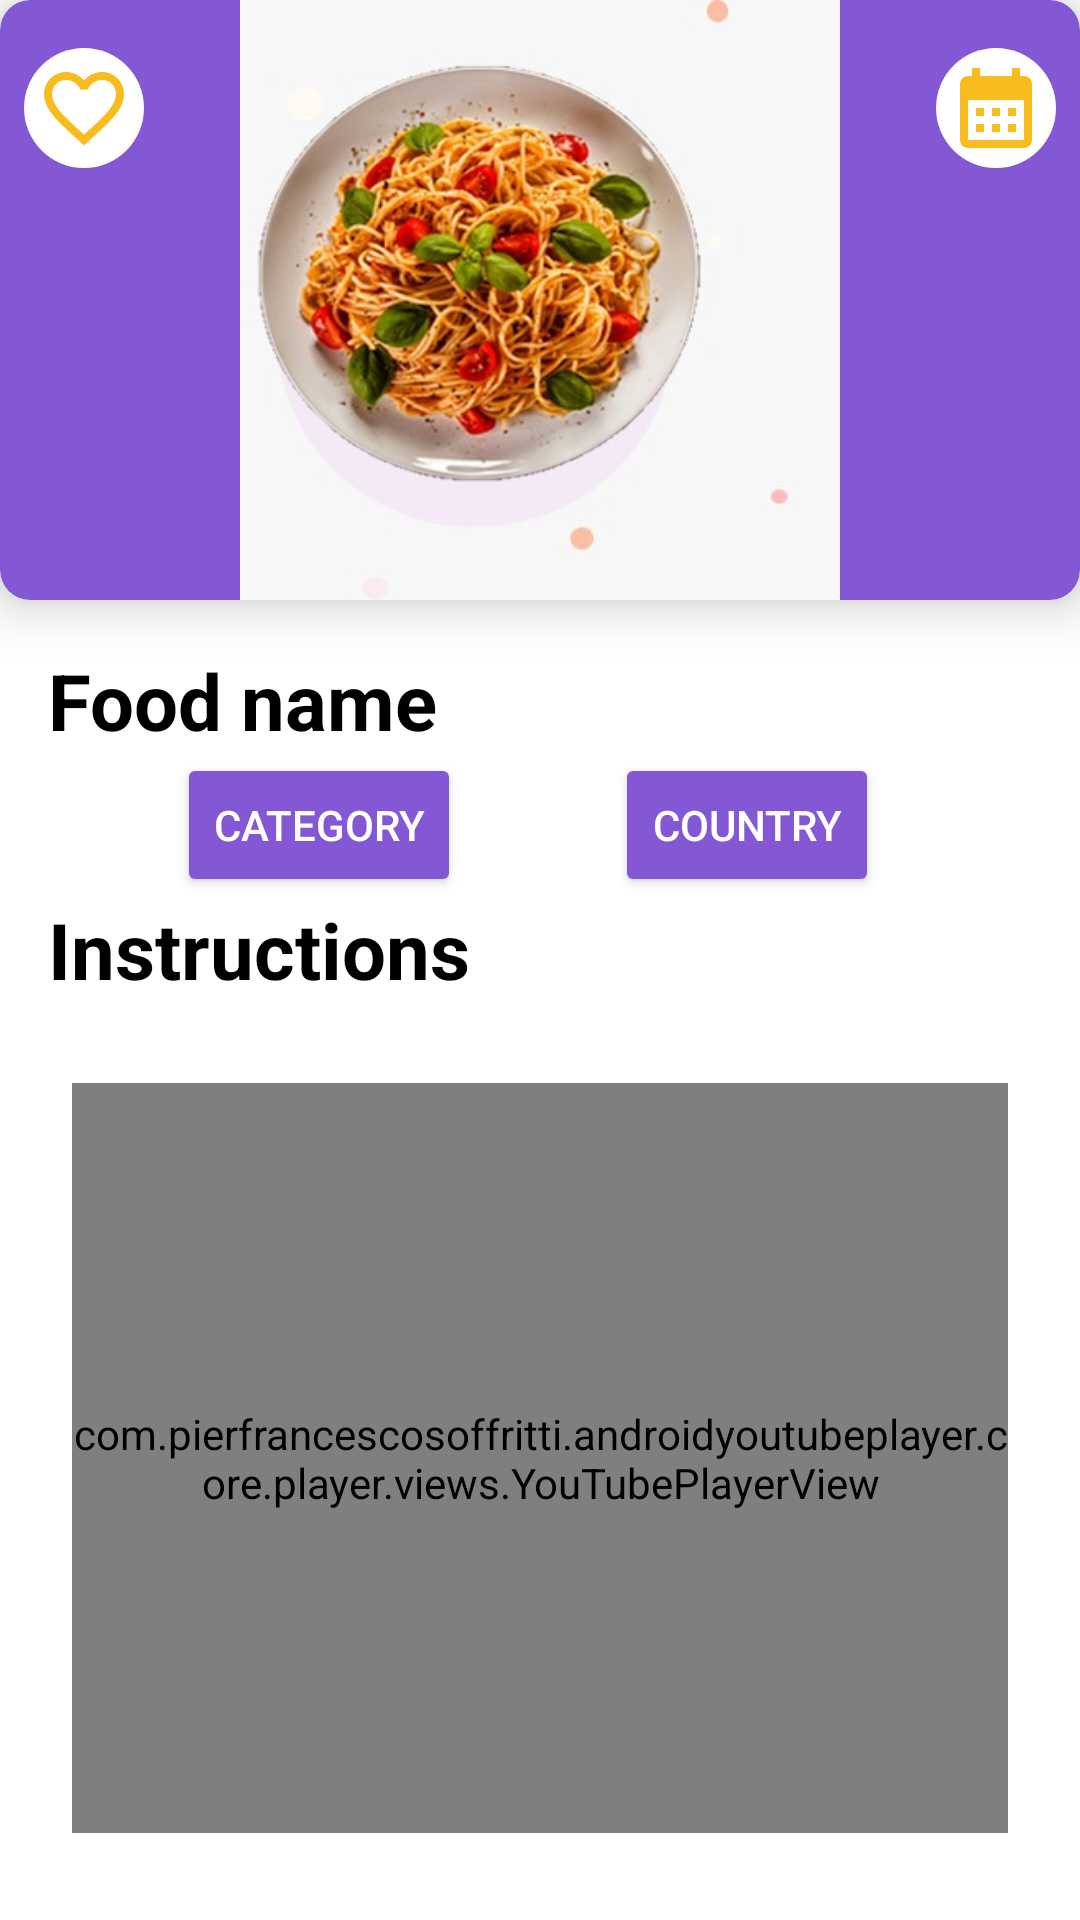

Point at icon controls on the screen. Image size 1080×1920, points as (x=x, y=y).
calendar: (x=996, y=108)
empty favorite: (x=84, y=108)
